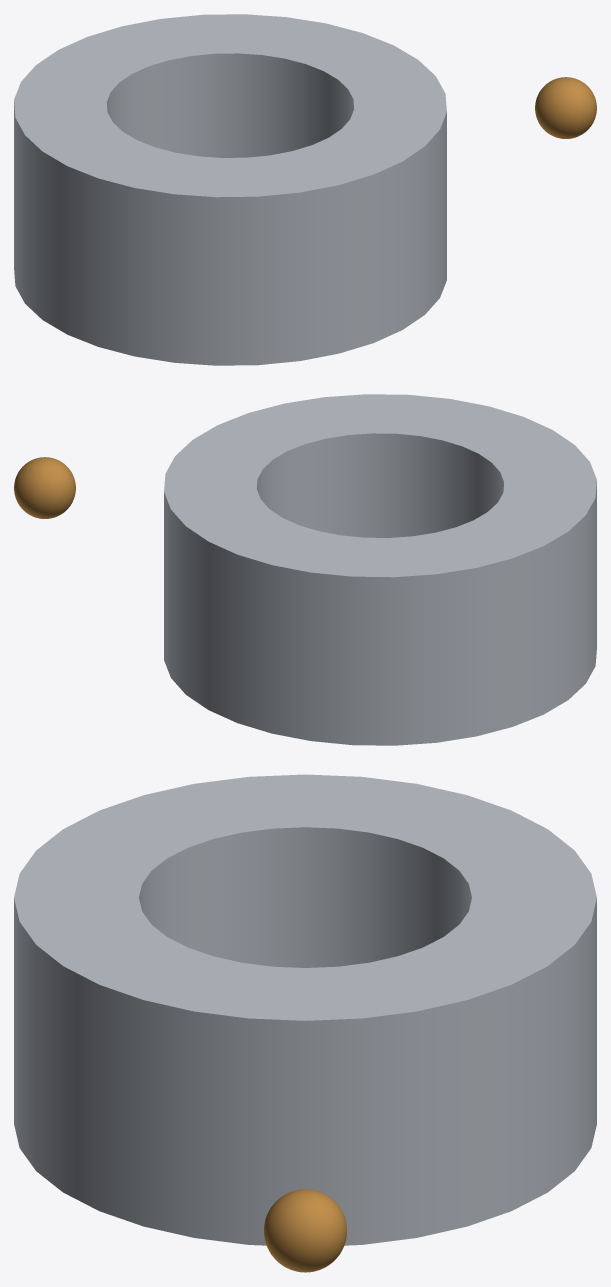
Rendered from default-blender.glb.
3 views of the same model, one above another, from view 1: azimuth 30°, elevation 25°; view 2: azimuth 150°, elevation 25°; view 3: azimuth 270°, elevation 25° (orthographic). The views are drawn at different scales.
Parts seen in each view (by area): view 1: bushing, preserved; view 2: bushing, preserved; view 3: bushing, preserved.
Boxes of the visible parts, x1,y1,x2,y2 form: bushing: [14, 14, 446, 365]; preserved: [535, 77, 596, 138]; bushing: [164, 394, 596, 745]; preserved: [14, 457, 75, 518]; bushing: [14, 774, 596, 1245]; preserved: [264, 1189, 346, 1272].
Size of the model in its own units: 0.041 by 0.012 by 0.028.
